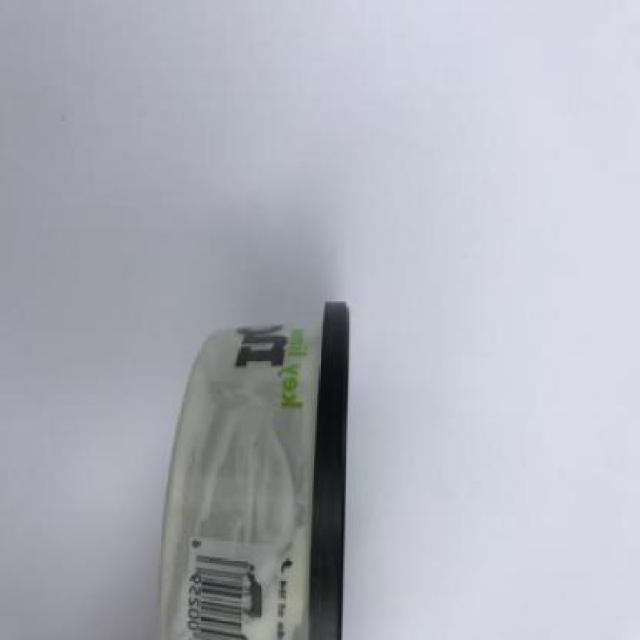PLASTIC: (159, 300, 350, 638)
